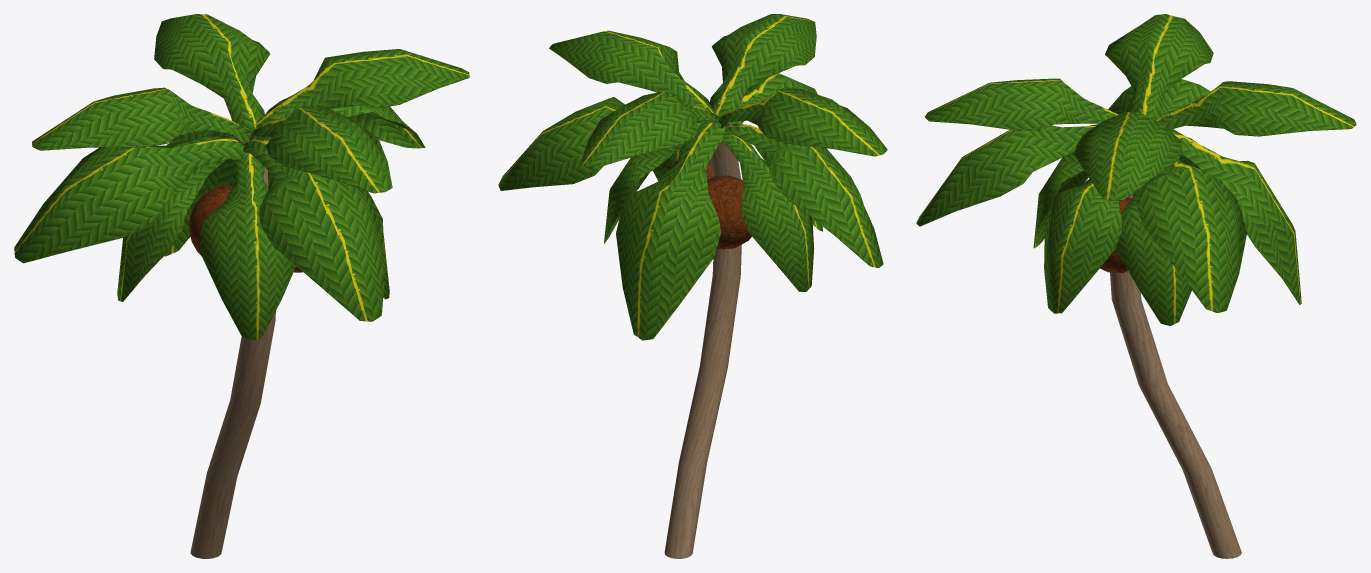
Rendered from palmtreefinal2.fbx.
3 views of the same model, side by side, from view 1: azimuth 30°, elevation 25°; view 2: azimuth 150°, elevation 25°; view 3: azimuth 270°, elevation 25° (orthographic). The views are drawn at different scales.
Parts seen in each view (by area): view 1: Plane.008, Plane.011, Plane.002, Plane.004, Plane.006, Plane.005, Plane.007, treetrunk, Plane.003, Plane.009, Plane, Coconut; view 2: Plane, treetrunk, Plane.011, Plane.003, Plane.007, Plane.004, Plane.006, Plane.005, Plane.009, Coconut, Plane.010, Plane.008; view 3: Plane.009, treetrunk, Plane.008, Plane.001, Plane.005, Plane.007, Plane.006, Plane.004, Plane, Plane.010, Plane.002, Plane.011.
Part boxes in pixels (x1,y1,x2,y2): Plane.008: [243, 136, 384, 321]; Plane.011: [14, 134, 244, 263]; Plane.002: [200, 152, 295, 340]; Plane.004: [32, 87, 251, 150]; Plane.006: [255, 49, 469, 137]; Plane.005: [154, 14, 269, 131]; Plane.007: [249, 105, 392, 193]; treetrunk: [190, 136, 275, 558]; Plane.003: [117, 160, 225, 301]; Plane.009: [268, 89, 425, 148]; Plane: [164, 130, 236, 256]; Coconut: [189, 185, 233, 256]; Plane: [616, 123, 725, 340]; treetrunk: [664, 121, 741, 558]; Plane.011: [723, 123, 883, 267]; Plane.003: [721, 134, 814, 291]; Plane.007: [709, 14, 816, 116]; Plane.004: [719, 87, 887, 156]; Plane.006: [549, 30, 715, 123]; Plane.005: [580, 91, 719, 167]; Plane.009: [498, 97, 701, 190]; Coconut: [707, 175, 751, 249]; Plane.010: [604, 123, 715, 243]; Plane.008: [727, 73, 817, 124]; Plane.009: [1136, 159, 1247, 312]; treetrunk: [1110, 193, 1241, 558]; Plane.008: [916, 124, 1097, 226]; Plane.001: [1044, 179, 1122, 313]; Plane.005: [1156, 81, 1356, 136]; Plane.007: [925, 78, 1118, 130]; Plane.006: [1074, 111, 1182, 200]; Plane.004: [1105, 14, 1213, 120]; Plane: [1169, 130, 1301, 304]; Plane.010: [1116, 180, 1191, 325]; Plane.002: [1033, 151, 1088, 248]; Plane.011: [1108, 79, 1210, 117].
Bounding box in the file's own units: 849 × 994 × 834.
